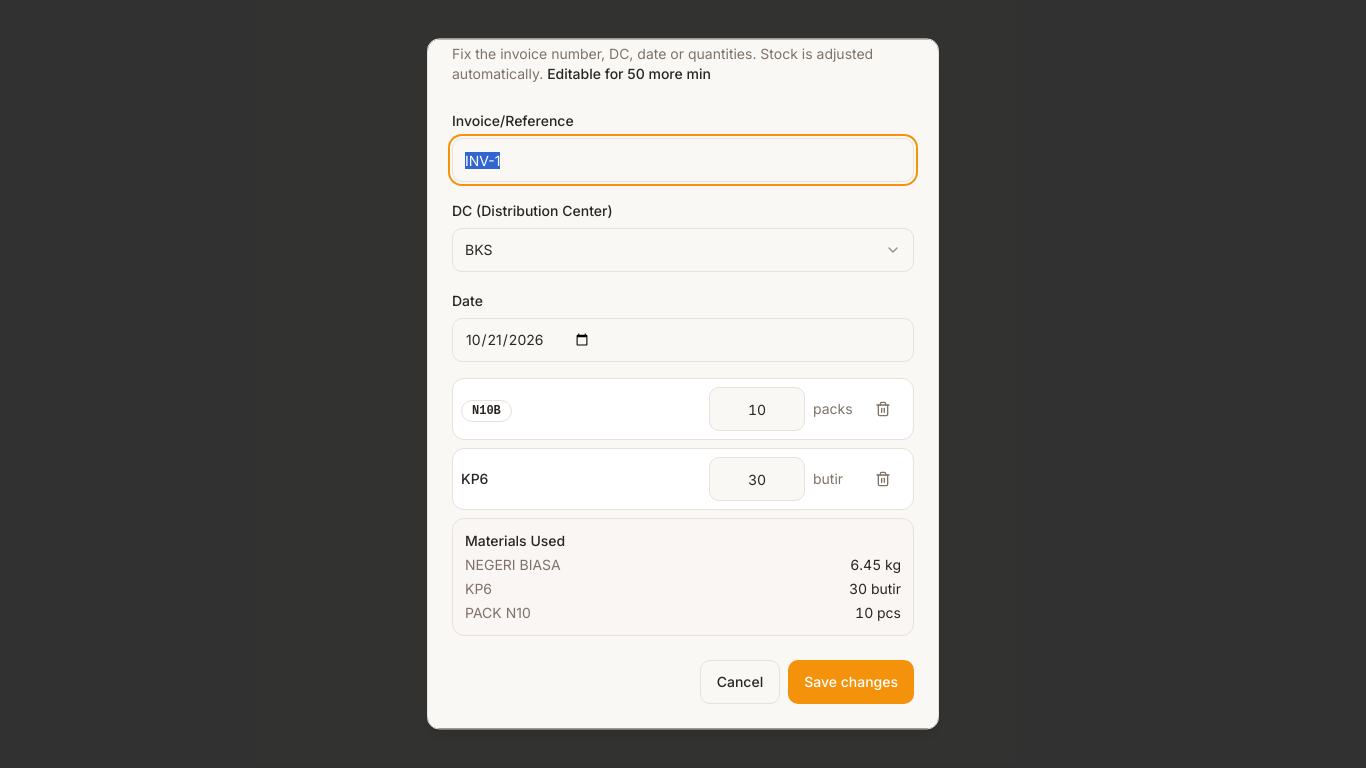
EditOrderDialog — Purchase Order › blocks a save when nothing changed
The width and height of the screenshot is (1366, 768).
(page scrolled)
Step 1. Click the button "Save changes" → (851, 682), box [788,660,914,704]
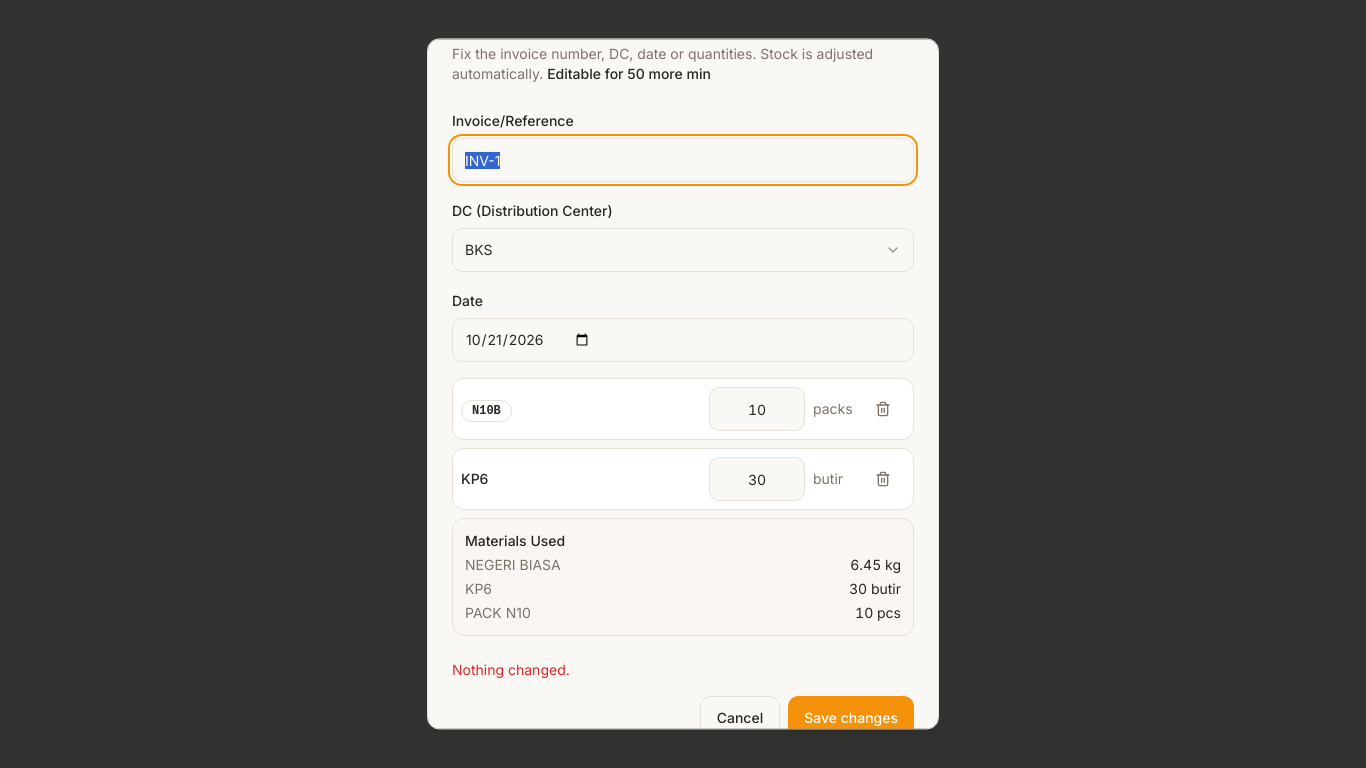
Check: the message reads "Nothing changed.", box [452,661,570,678]
